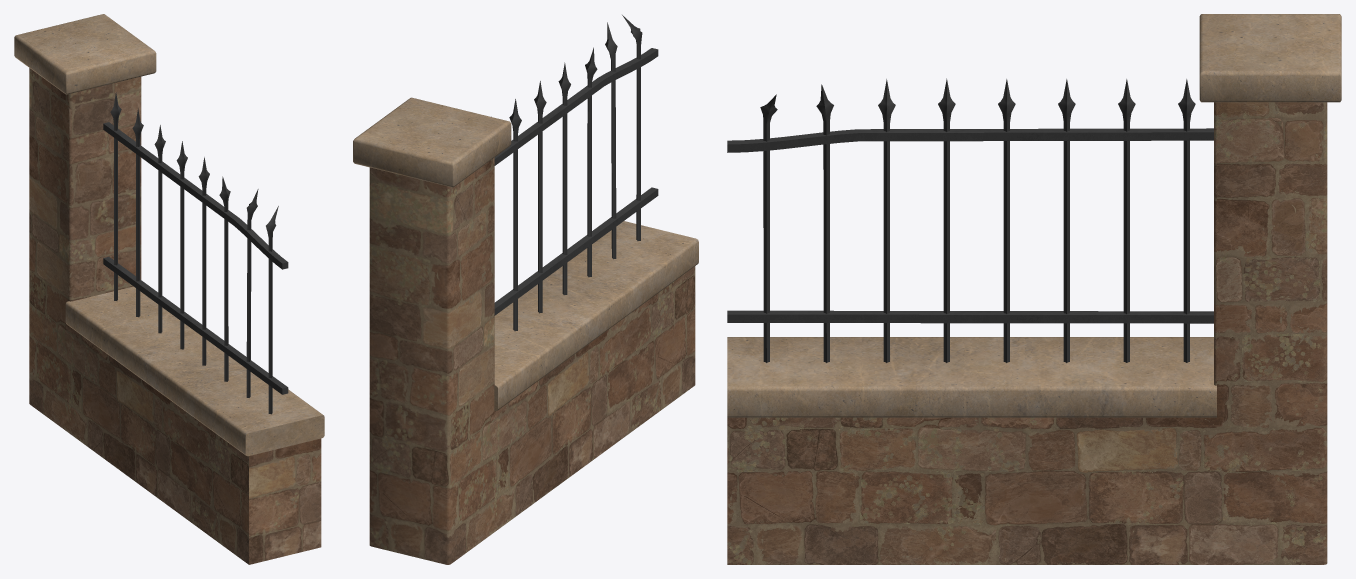
File: SM_FenceB.fbx
The picture shows the model from 3 angles, left to right: view 1: azimuth 30°, elevation 25°; view 2: azimuth 150°, elevation 25°; view 3: azimuth 270°, elevation 25°; orthographic projection. The views are drawn at different scales.
Parts seen in each view (by area): view 1: SM_FenceB_LOD0; view 2: SM_FenceB_LOD0; view 3: SM_FenceB_LOD0.
Part boxes in pixels (box(x1,y1,x2,y2)): SM_FenceB_LOD0: box(14, 14, 324, 564); SM_FenceB_LOD0: box(353, 15, 698, 564); SM_FenceB_LOD0: box(727, 14, 1341, 564).
Size of the model in its own units: 47.39 by 205 by 183.
Materials: 3 (3 with a texture image).
